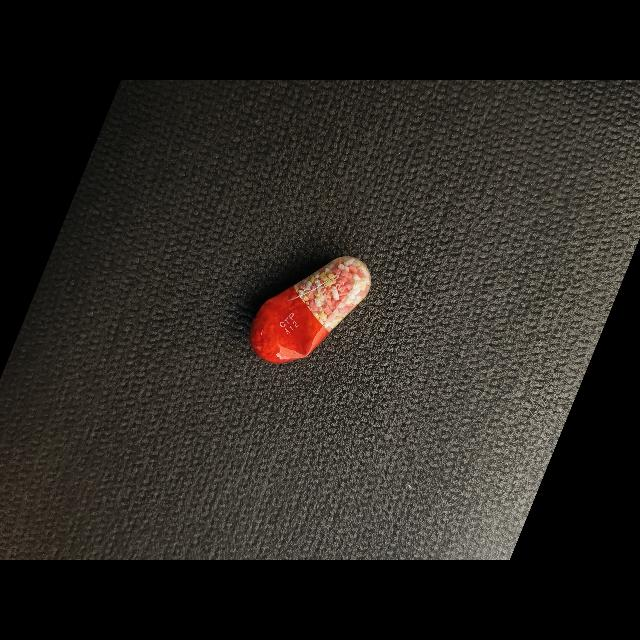Defective Capsule: (250, 256, 371, 363)
